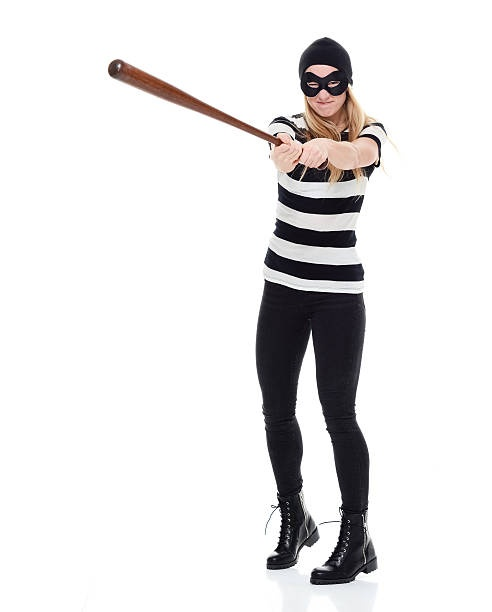bita: (108, 57, 288, 149)
